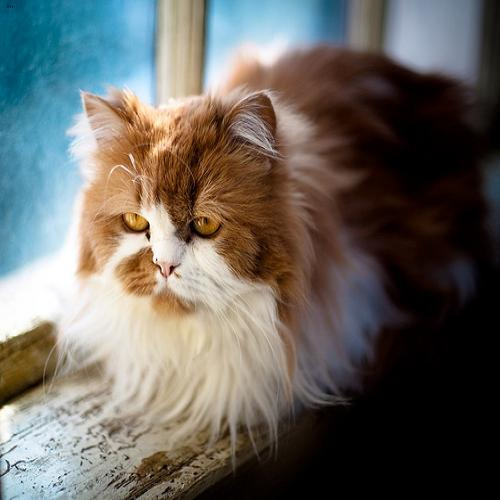persian: (51, 69, 314, 342)
